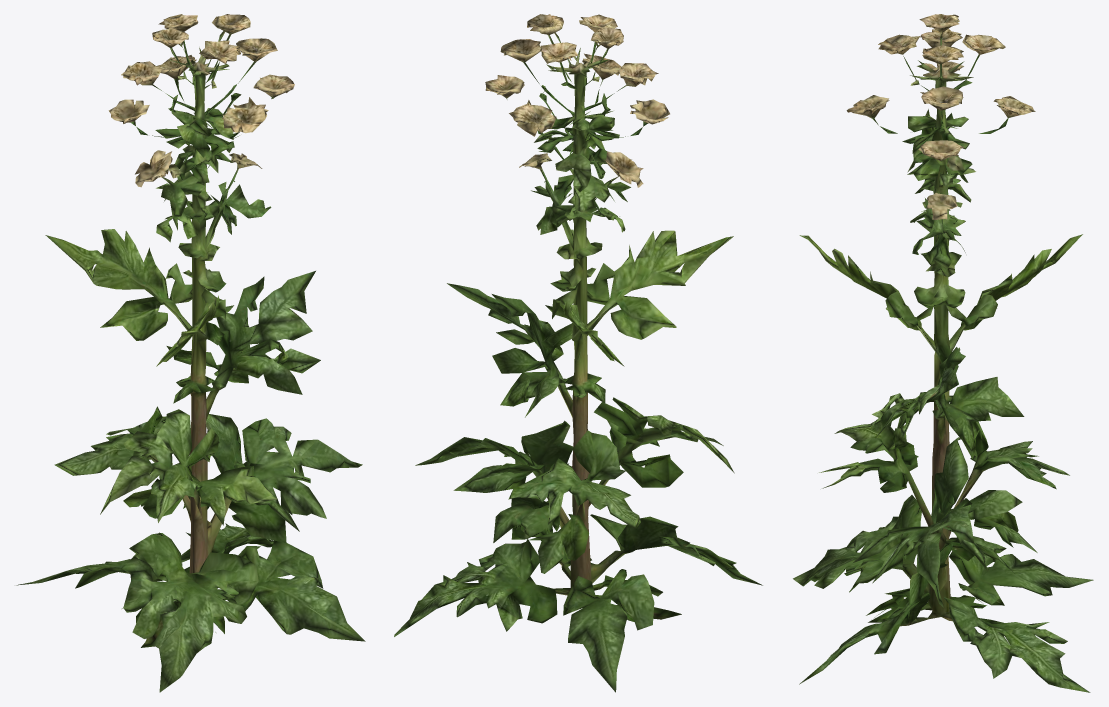
File: hogweed.glb
3 renders of one model, left to right at view 1: azimuth 30°, elevation 25°; view 2: azimuth 150°, elevation 25°; view 3: azimuth 270°, elevation 25°, orthographic. The views are drawn at different scales.
Visible parts, largest first — view 1: hogweed; view 2: hogweed; view 3: hogweed.
Boxes of the visible parts, x1=… form: hogweed: x1=16, y1=14, x2=365, y2=692; hogweed: x1=394, y1=14, x2=762, y2=692; hogweed: x1=793, y1=14, x2=1093, y2=692.
Size of the model in its own units: 0.5095 by 0.9785 by 0.4427.
Materials: 1 (1 with a texture image).
